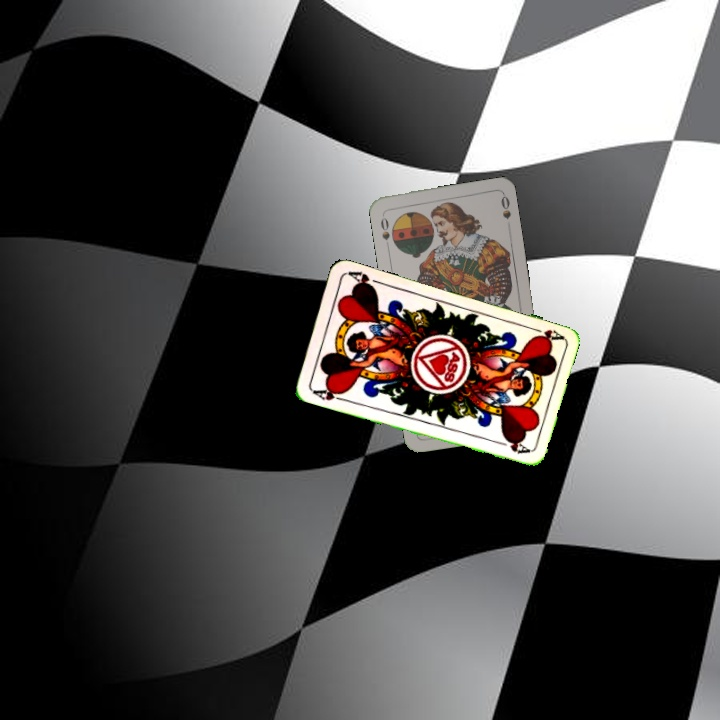HA: (525, 322, 565, 344), (309, 383, 349, 404)
SO: (376, 210, 392, 250)
